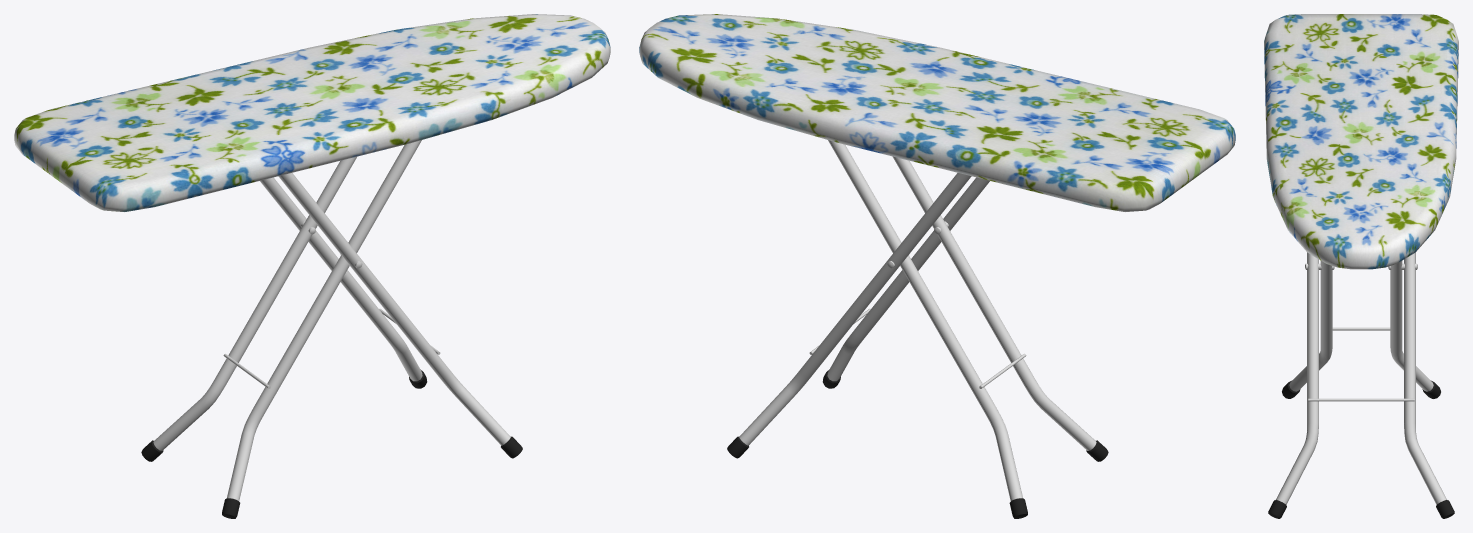
Rendered from ironing_board_green.FBX.
3 views of the same model, side by side, from view 1: azimuth 30°, elevation 25°; view 2: azimuth 150°, elevation 25°; view 3: azimuth 270°, elevation 25° (orthographic). The views are drawn at different scales.
Parts seen in each view (by area): view 1: ironing_board_greenish; view 2: ironing_board_greenish; view 3: ironing_board_greenish.
Part boxes in pixels (<box>): ironing_board_greenish: <box>14,14,610,518</box>; ironing_board_greenish: <box>639,14,1235,518</box>; ironing_board_greenish: <box>1264,14,1458,518</box>.
Bounding box in the file's own units: 142 × 91.11 × 48.95.
Materials: 1 (1 with a texture image).
